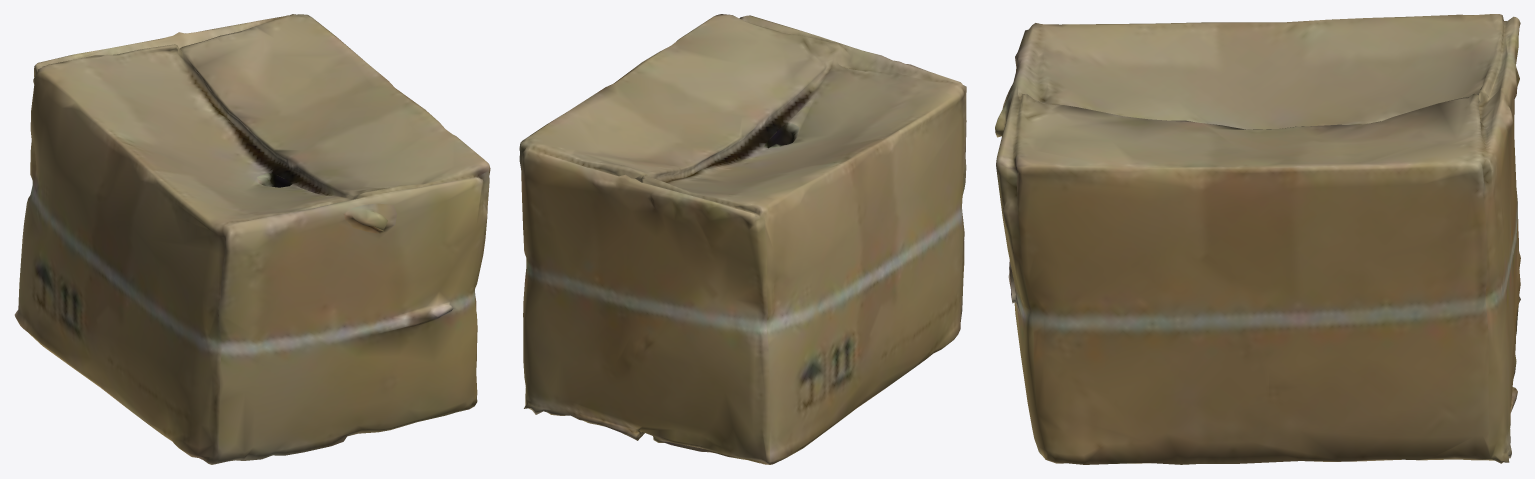
File: p_cardboard_box_01.glb
The picture shows the model from 3 angles, left to right: view 1: azimuth 30°, elevation 25°; view 2: azimuth 150°, elevation 25°; view 3: azimuth 270°, elevation 25°; orthographic projection. The views are drawn at different scales.
Visible parts, largest first — view 1: cardboard_box_01; view 2: cardboard_box_01; view 3: cardboard_box_01.
Boxes of the visible parts, box(x1,y1,x2,y2) form: cardboard_box_01: box(14, 14, 490, 464); cardboard_box_01: box(519, 14, 966, 464); cardboard_box_01: box(995, 14, 1520, 464).
Bounding box in the file's own units: 0.3868 × 0.3418 × 0.5159.
Materials: 1 (1 with a texture image).
